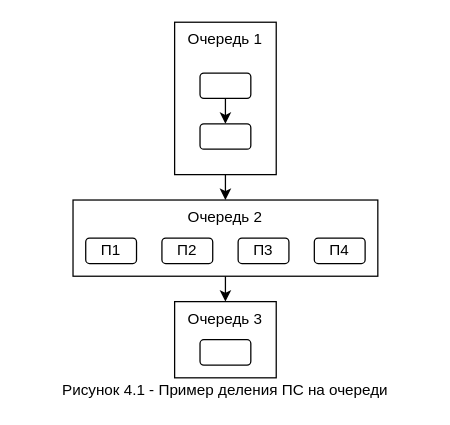
Some shapes in this 450 by 425 pixel diagram are drawn without their labels. Each missing label, with the centre of its shape:
П0: (x=225, y=85)
П5: (x=225, y=351)
П6: (x=225, y=136)
